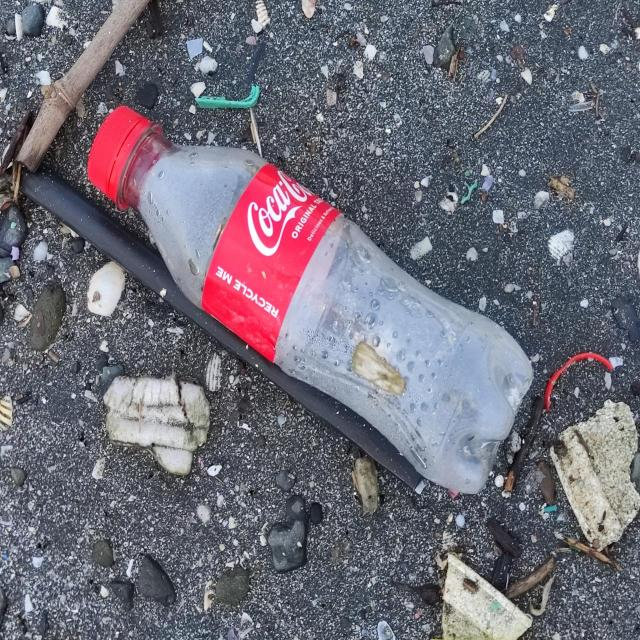plastic_waste: (88, 106, 536, 501)
